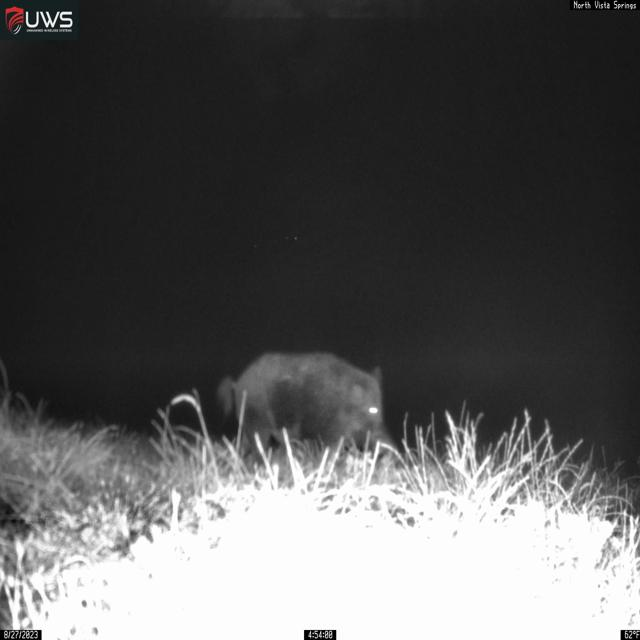pig: (216, 349, 396, 475)
